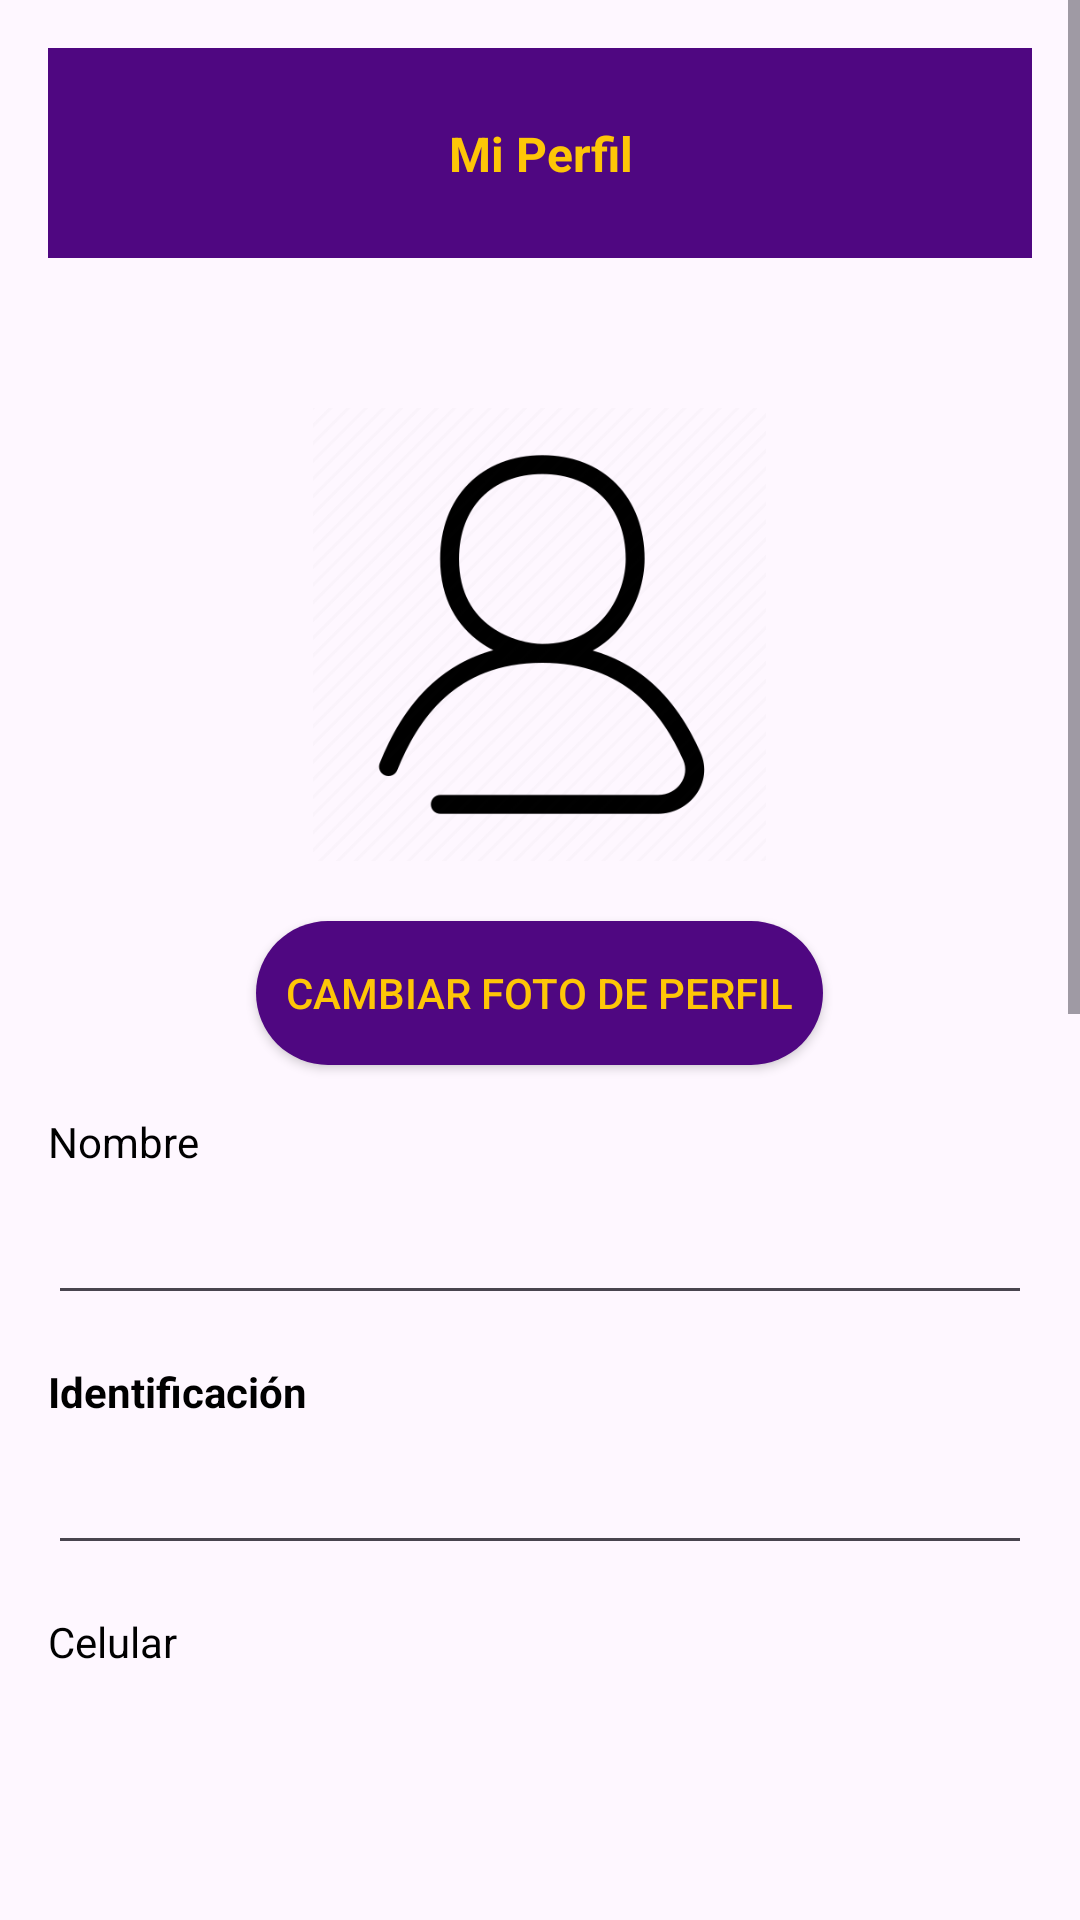

Named icons in this screenshot (1080px x 1920px) and their centers, [x,y]:
profile: [541,634]
